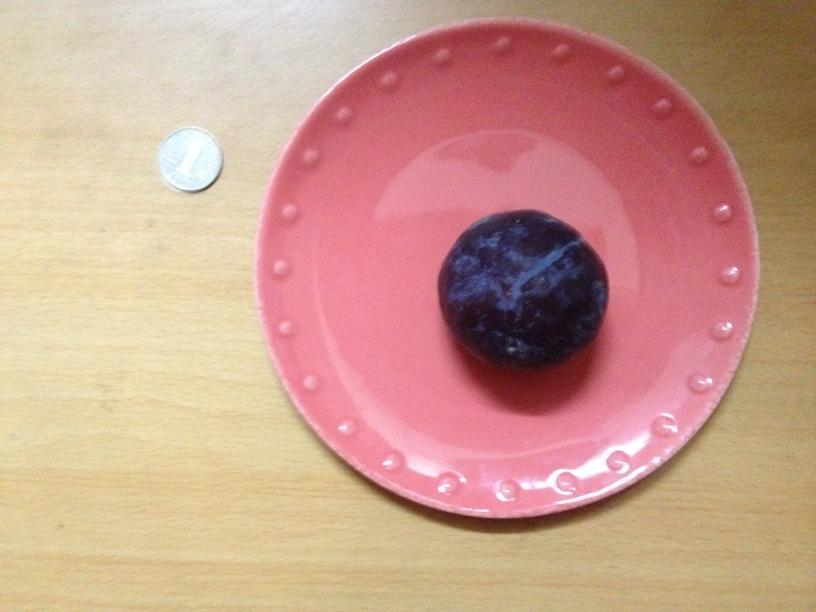coin: (156, 124, 222, 191)
plum: (444, 213, 608, 368)
